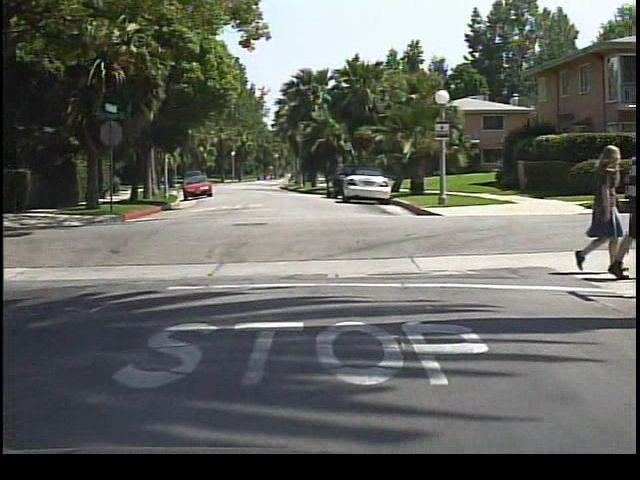person: (569, 140, 625, 276)
